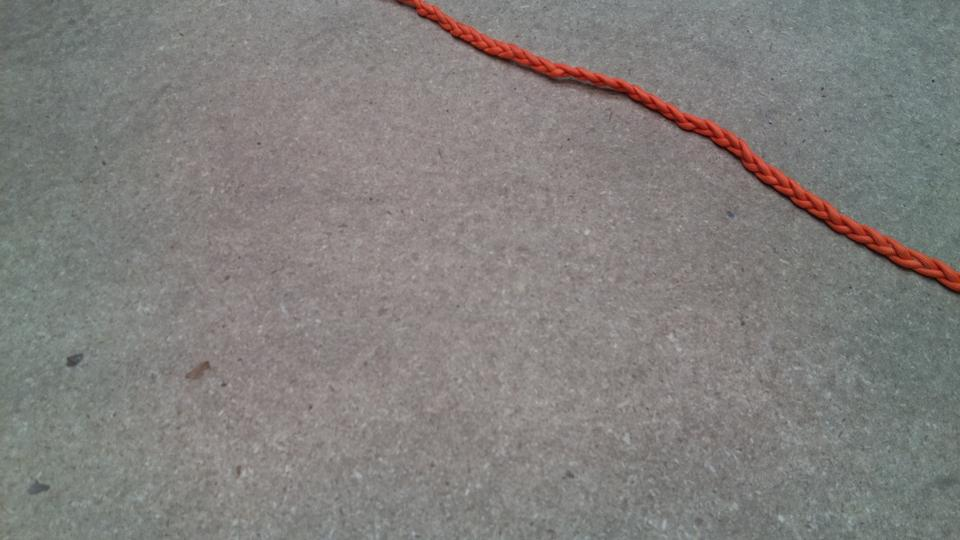rope: (418, 1, 960, 277)
